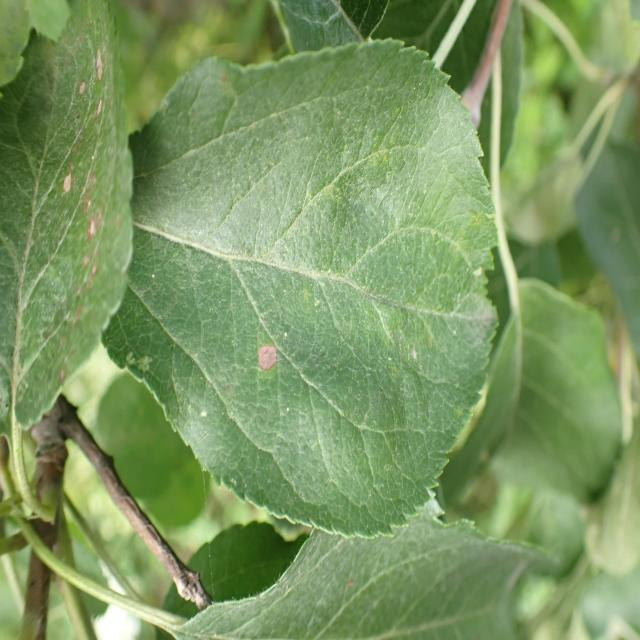Black Rot: (67, 36, 124, 366), (240, 324, 279, 392)
